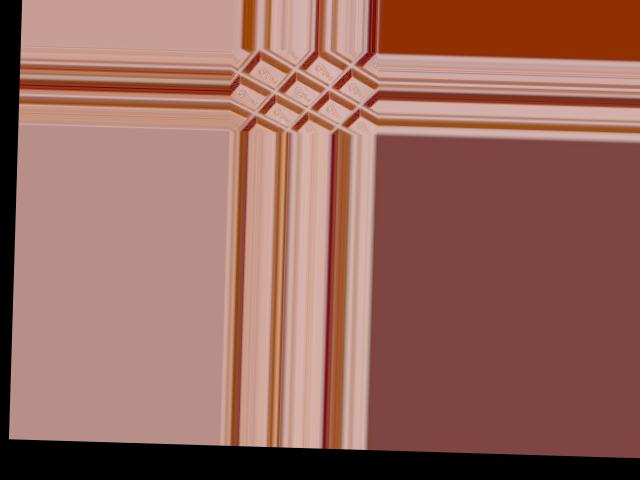chocolate: (229, 47, 375, 132)
